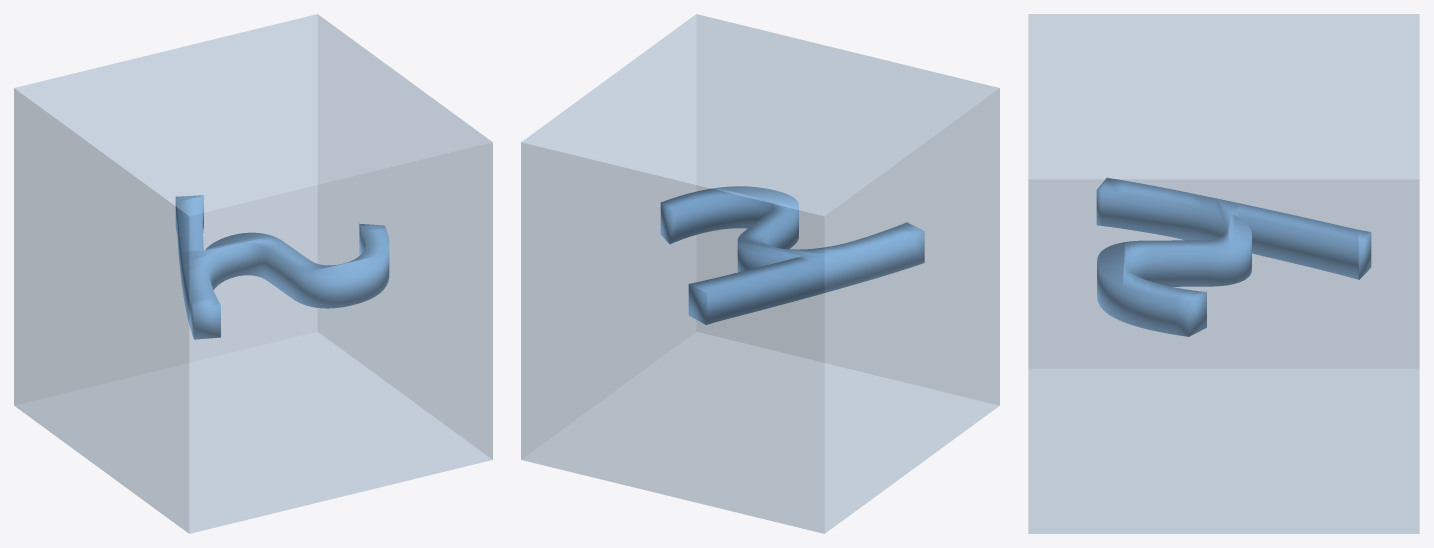
The model's file is Title_Ice6.obj.
The picture shows the model from 3 angles, left to right: view 1: azimuth 30°, elevation 25°; view 2: azimuth 150°, elevation 25°; view 3: azimuth 270°, elevation 25°; orthographic projection. The views are drawn at different scales.
Visible parts, largest first — view 1: 6.ん; view 2: 6.ん; view 3: 6.ん.
Boxes of the visible parts, bbox=[...] form: 6.ん: bbox=[14, 14, 492, 533]; 6.ん: bbox=[521, 14, 999, 533]; 6.ん: bbox=[1028, 14, 1419, 533].
Bounding box in the file's own units: 2 × 2 × 2.
1 material, 1 textured.
